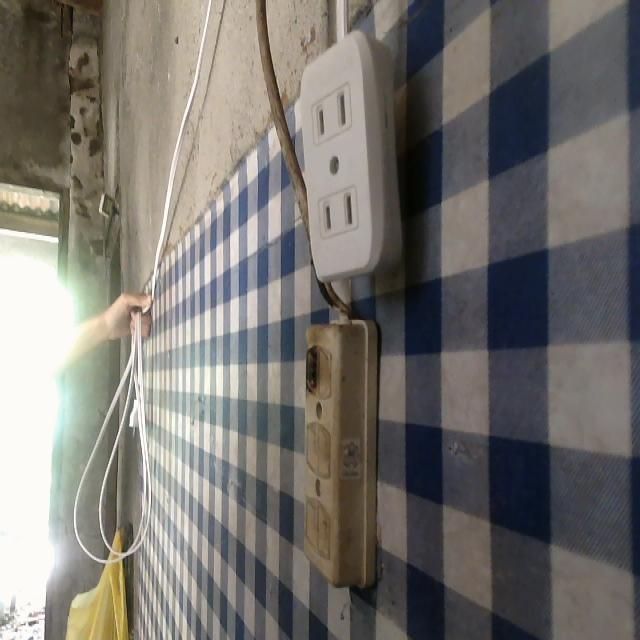-: (298, 341, 323, 395)
